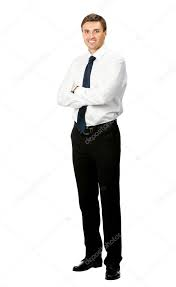person: (55, 9, 136, 284)
